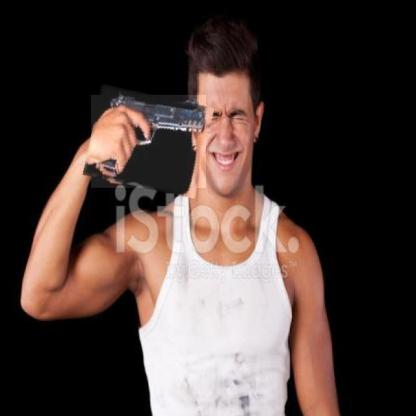handgun: (87, 90, 210, 194)
